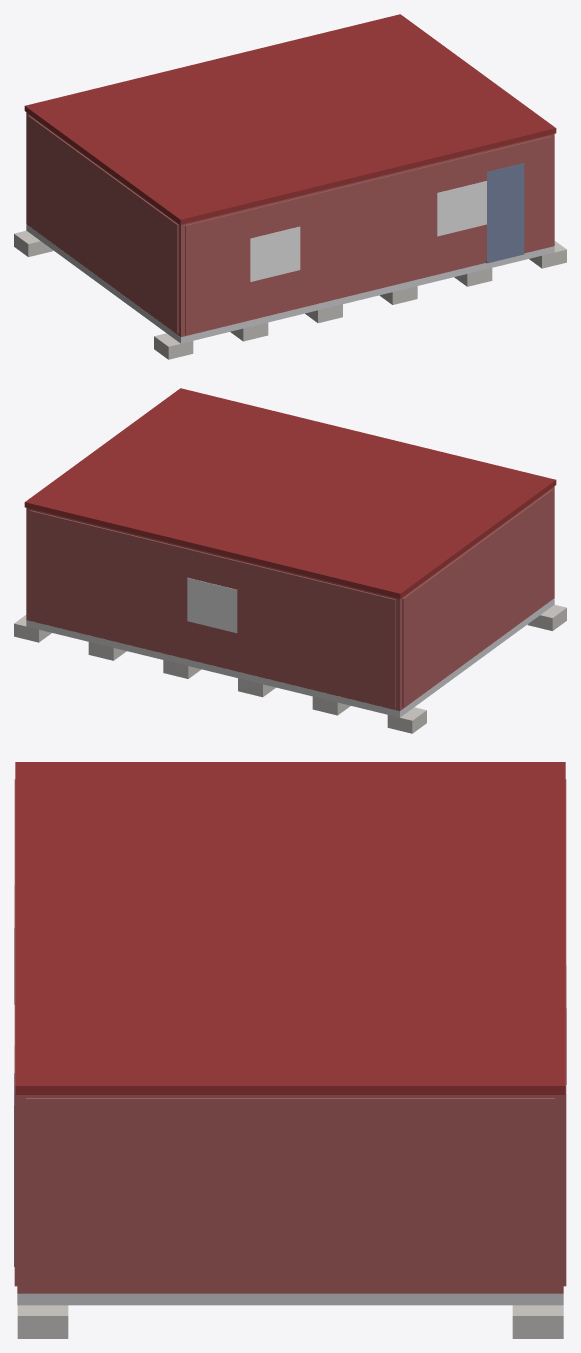
File: Studio-30-Base-MaroonRed-LOD2.glb
The picture shows the model from 3 angles, top to bottom: view 1: azimuth 30°, elevation 25°; view 2: azimuth 150°, elevation 25°; view 3: azimuth 270°, elevation 25°; orthographic projection. The views are drawn at different scales.
Parts seen in each view (by area): view 1: RoofMain, ExteriorPanelsStandard, WindowsStandard, BaseFrame, FoundationBlocks, ExteriorShell, EntryDoor; view 2: RoofMain, ExteriorPanelsStandard, BaseFrame, ExteriorShell, FoundationBlocks, WindowsStandard; view 3: RoofMain, ExteriorPanelsStandard, BaseFrame, ExteriorShell, FoundationBlocks.
Boxes of the visible parts, box(x1,y1,x2,y2) form: RoofMain: box(24, 14, 556, 224); ExteriorPanelsStandard: box(27, 115, 550, 334); WindowsStandard: box(250, 181, 486, 281); BaseFrame: box(26, 224, 554, 343); FoundationBlocks: box(14, 230, 566, 359); ExteriorShell: box(26, 112, 554, 336); EntryDoor: box(486, 163, 524, 263); RoofMain: box(24, 388, 556, 598); ExteriorPanelsStandard: box(30, 489, 553, 708); BaseFrame: box(26, 598, 554, 717); ExteriorShell: box(26, 486, 554, 710); FoundationBlocks: box(14, 604, 566, 733); WindowsStandard: box(187, 577, 237, 633); RoofMain: box(15, 762, 565, 1094); ExteriorPanelsStandard: box(14, 779, 566, 1290); BaseFrame: box(17, 1293, 563, 1305); ExteriorShell: box(17, 1095, 563, 1293); FoundationBlocks: box(17, 1305, 563, 1338).
Bounding box in the file's own units: 9.6 × 3.17 × 6.53.
